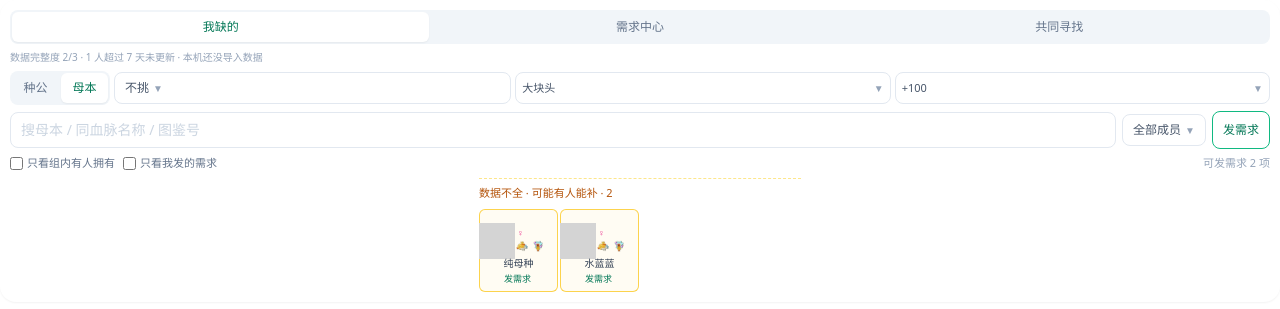
it: MotherGroupResources 三视图 › 需求中心：需求卡不再写性别/体型/声音与承接人数据提示
Click the button with test id "mother-view-mine": (640, 27) x1=431 y1=12 x2=849 y2=42
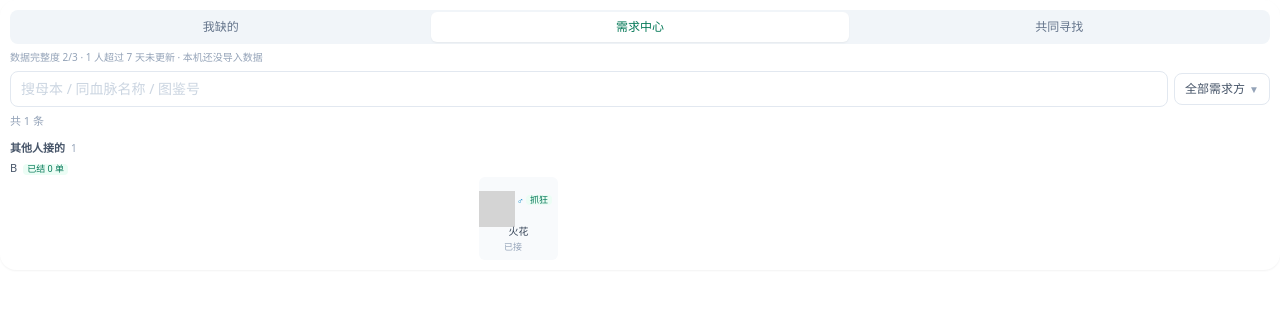
Expected: the list item with test id "mother-demand-row" does not show "公 · 体型不限 · 声音不限", x1=479 y1=176 x2=558 y2=260
Expected: the list item with test id "mother-demand-row" shows "抓狂", x1=530 y1=192 x2=548 y2=206
